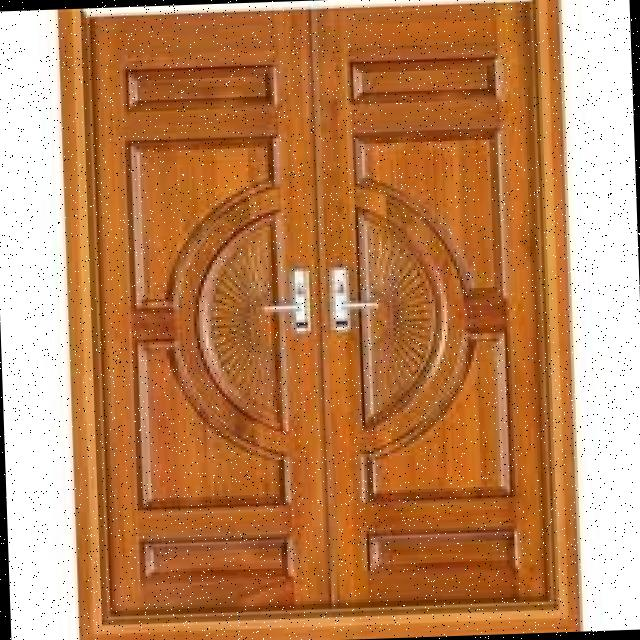Door: (55, 0, 585, 640)
